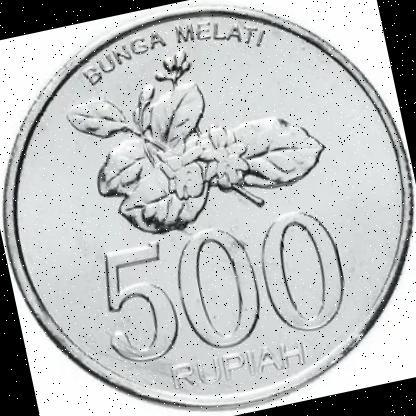coin_500_e2003: (6, 4, 416, 410)
